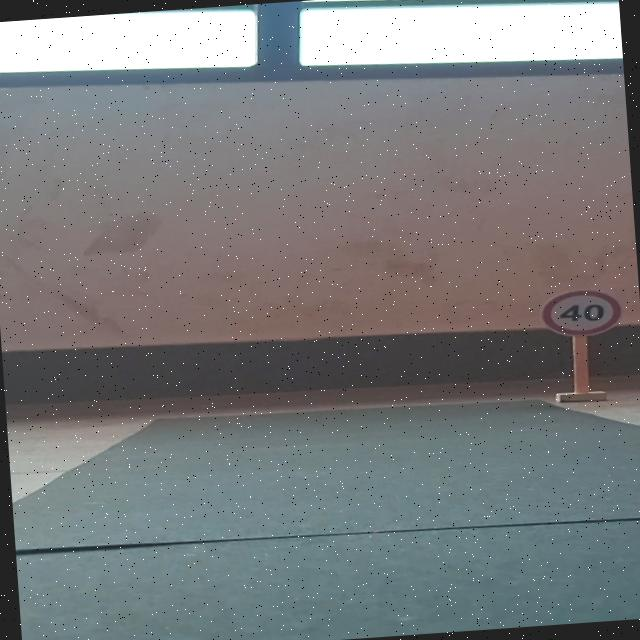Speed40: (529, 282, 629, 344)
